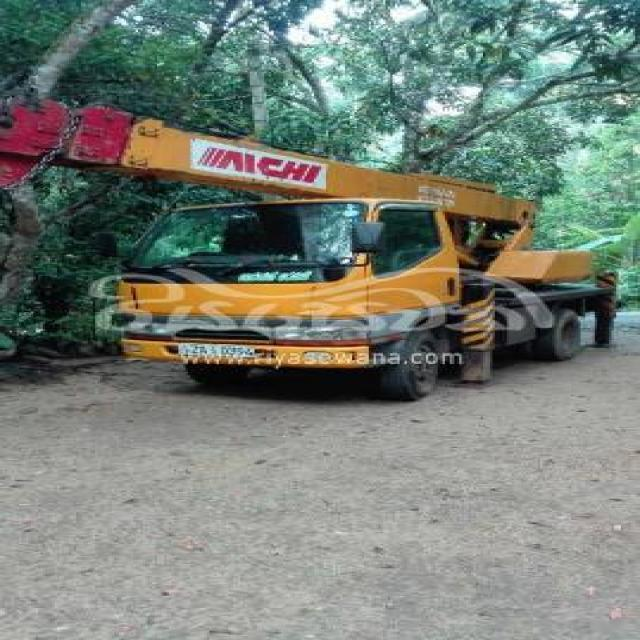truck: (0, 98, 604, 398)
